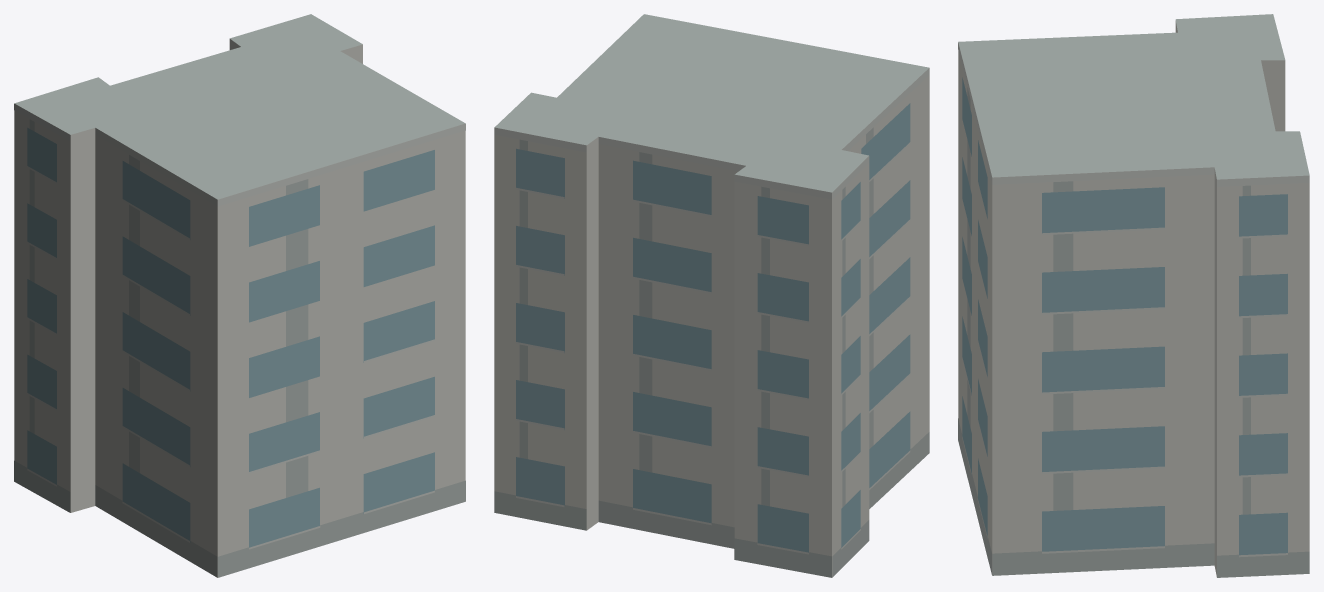
The model's file is survey-upis-32638643.glb.
3 views of the same model, side by side, from view 1: azimuth 30°, elevation 25°; view 2: azimuth 150°, elevation 25°; view 3: azimuth 270°, elevation 25° (orthographic). The views are drawn at different scales.
Parts seen in each view (by area): view 1: survey-upis-32638643.tmp; view 2: survey-upis-32638643.tmp; view 3: survey-upis-32638643.tmp.
Part boxes in pixels (x1,y1,x2,y2): survey-upis-32638643.tmp: [14, 14, 465, 577]; survey-upis-32638643.tmp: [494, 14, 929, 577]; survey-upis-32638643.tmp: [958, 14, 1309, 577].
Bounding box in the file's own units: 11.6 × 13 × 10.41.
